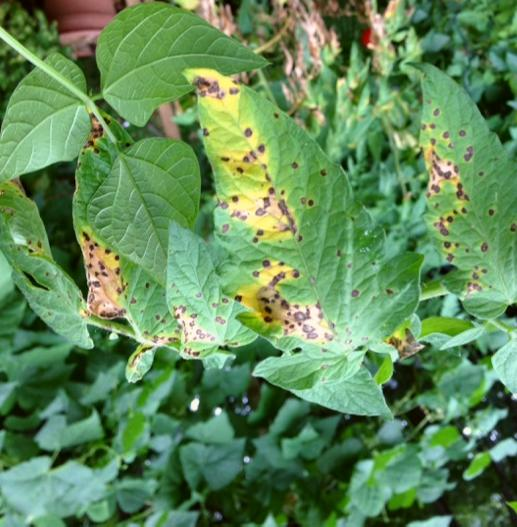Tomato Septoria leaf spot: (184, 68, 388, 348), (408, 71, 517, 321), (171, 210, 230, 354)
Tomato leaf: (0, 51, 92, 189)
